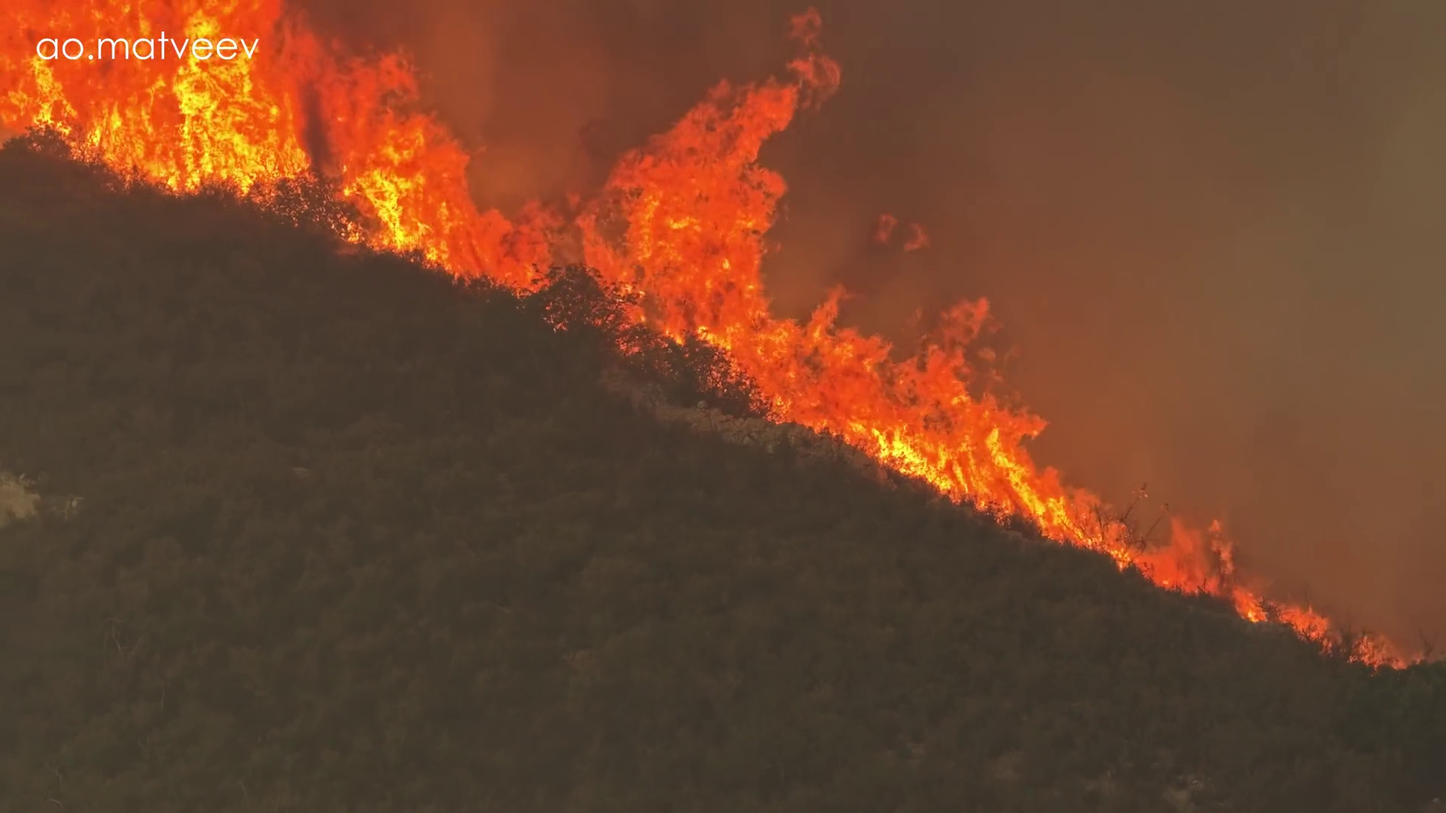forest_fire: (0, 0, 1344, 642), (1352, 635, 1408, 665)
